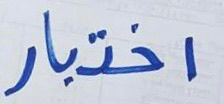alef: (182, 35, 200, 83)
beh: (41, 8, 58, 71)
kaf: (119, 23, 166, 74), (79, 28, 116, 77)
reh: (2, 40, 38, 98)
yeh: (59, 46, 78, 87)
